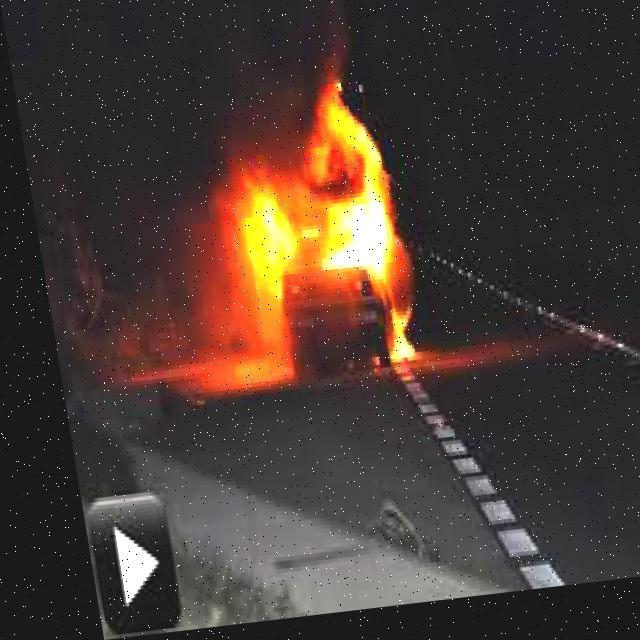Fire: (205, 105, 428, 392)
